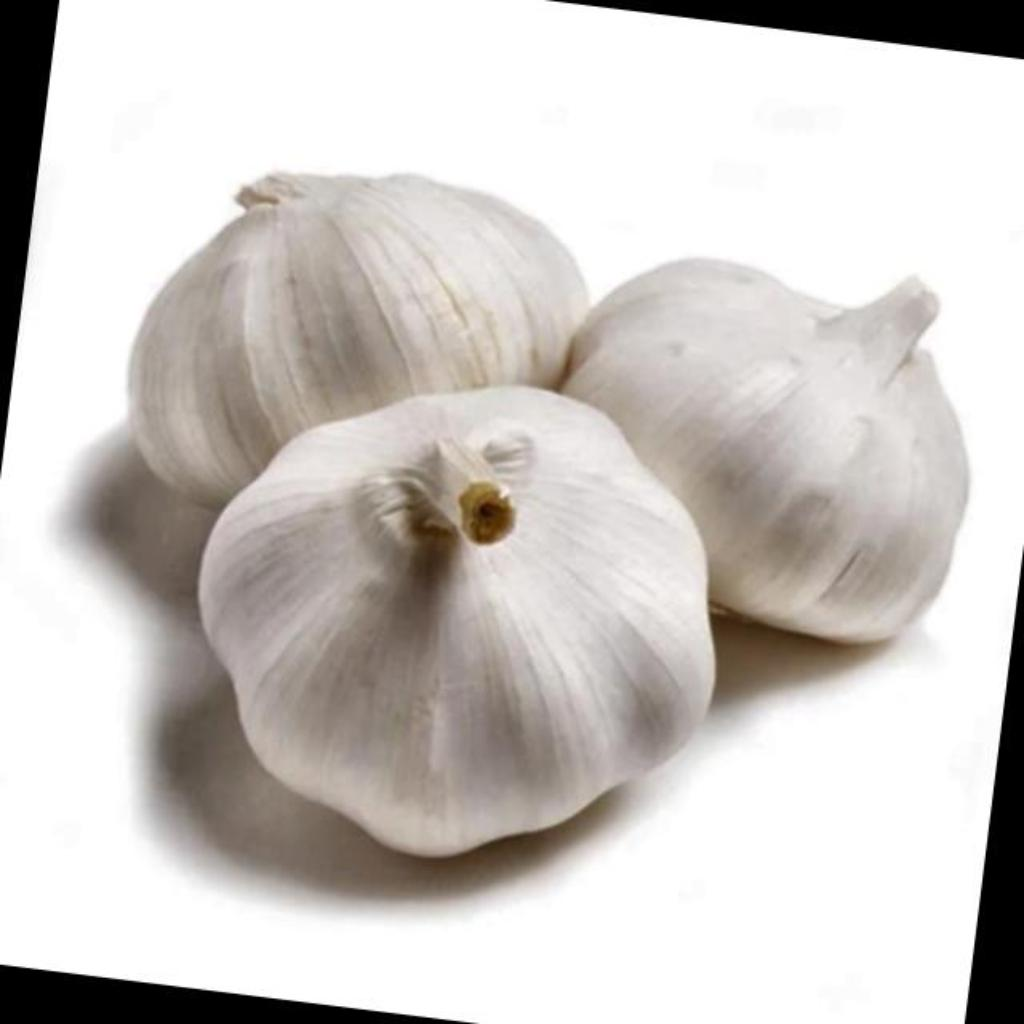garlic: (202, 388, 712, 856), (564, 260, 968, 642), (130, 174, 588, 505)
